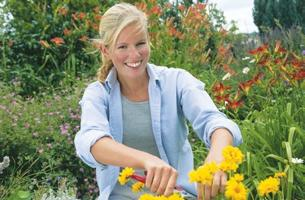person: (69, 2, 243, 199)
